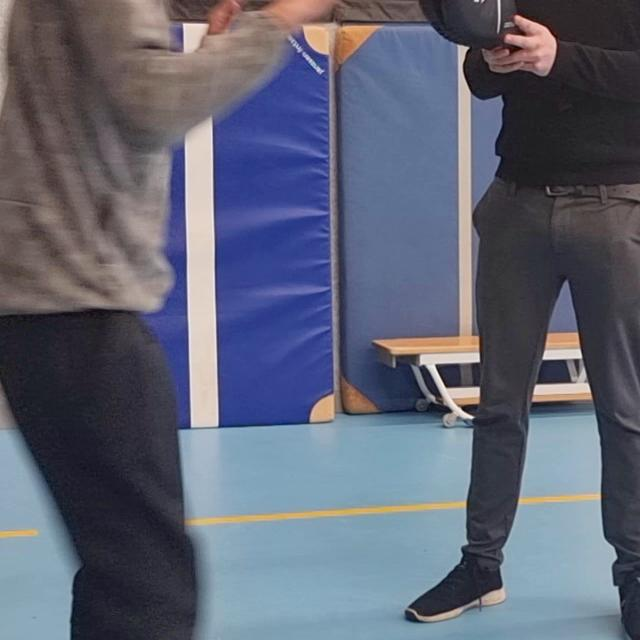paddle: (415, 0, 522, 50)
